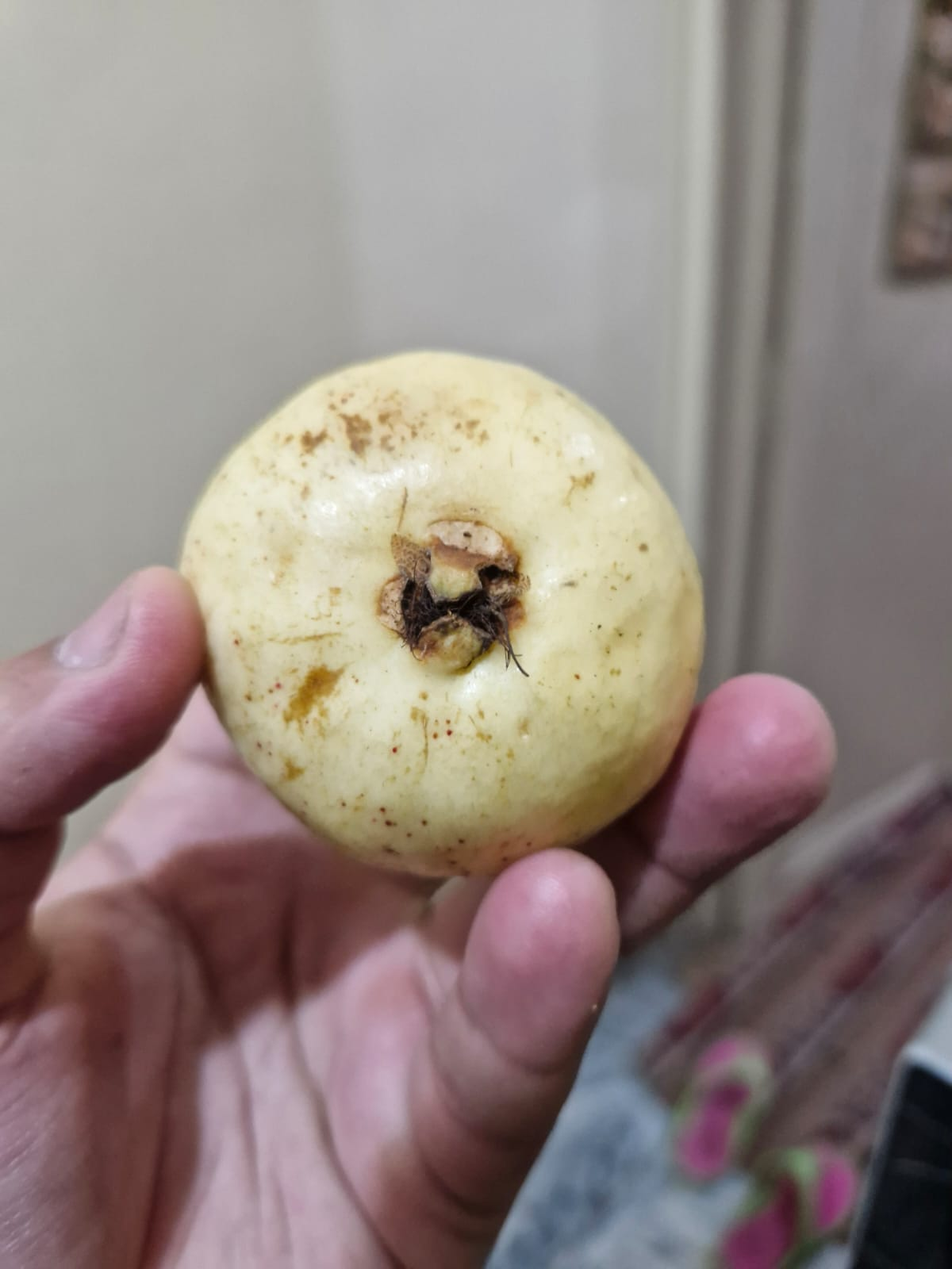guava: (192, 286, 875, 1236)
